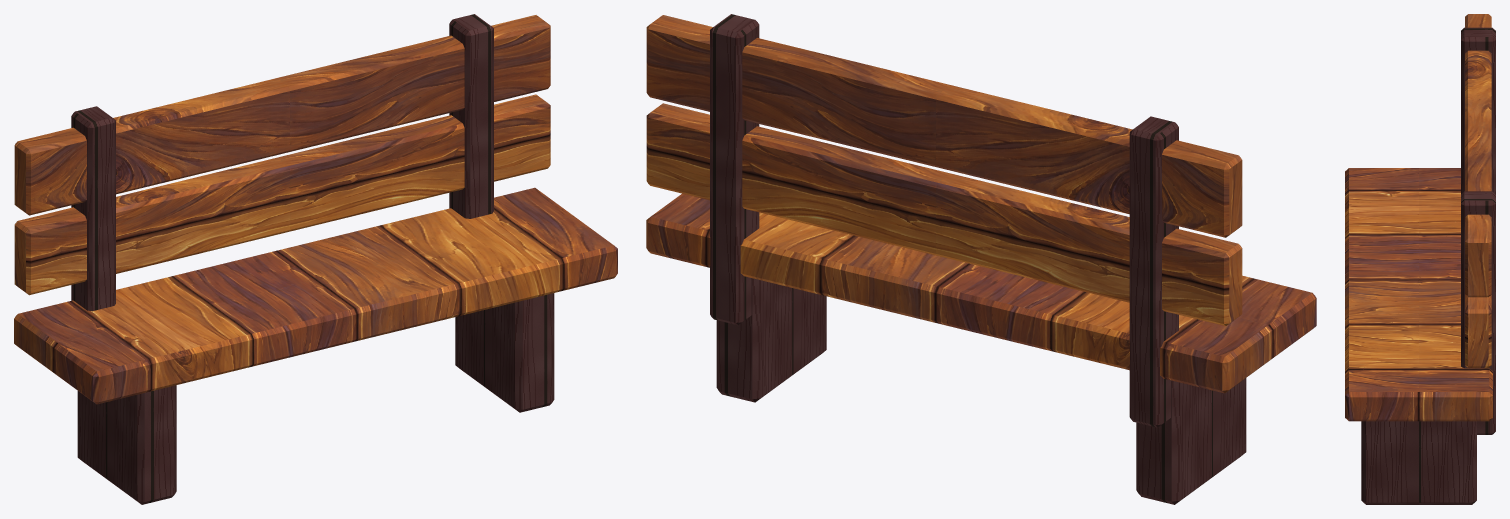
Rendered from Bench.fbx.
3 views of the same model, side by side, from view 1: azimuth 30°, elevation 25°; view 2: azimuth 150°, elevation 25°; view 3: azimuth 270°, elevation 25° (orthographic). The views are drawn at different scales.
Parts seen in each view (by area): view 1: Bench seat, Bench back board.001, Bench back board, Bench leg, Bench leg.001, Bench back supporting stile.001, Bench back supporting stile; view 2: Bench back board.001, Bench back board, Bench seat, Bench back supporting stile, Bench back supporting stile.001, Bench leg, Bench leg.001; view 3: Bench seat, Bench leg.001, Bench back board.001, Bench back supporting stile.001, Bench back supporting stile, Bench back board.
Boxes of the visible parts, x1,y1,x2,y2 form: Bench seat: (14,187,617,404); Bench back board.001: (14,15,550,215); Bench back board: (14,94,550,295); Bench leg: (77,385,176,504); Bench leg.001: (455,293,554,412); Bench back supporting stile.001: (449,14,493,218); Bench back supporting stile: (71,106,115,311); Bench back board.001: (646,15,1242,237); Bench back board: (646,103,1242,326); Bench seat: (646,193,1316,393); Bench back supporting stile: (1129,116,1178,427); Bench back supporting stile.001: (710,14,759,325); Bench leg: (1136,378,1246,504); Bench leg.001: (716,278,826,402); Bench seat: (1345,168,1492,421); Bench leg.001: (1361,421,1476,504); Bench back board.001: (1465,14,1491,297); Bench back supporting stile.001: (1461,191,1495,434); Bench back supporting stile: (1461,27,1495,194); Bench back board: (1465,295,1491,367).
Bounding box in the file's own units: 200 × 124 × 56.
